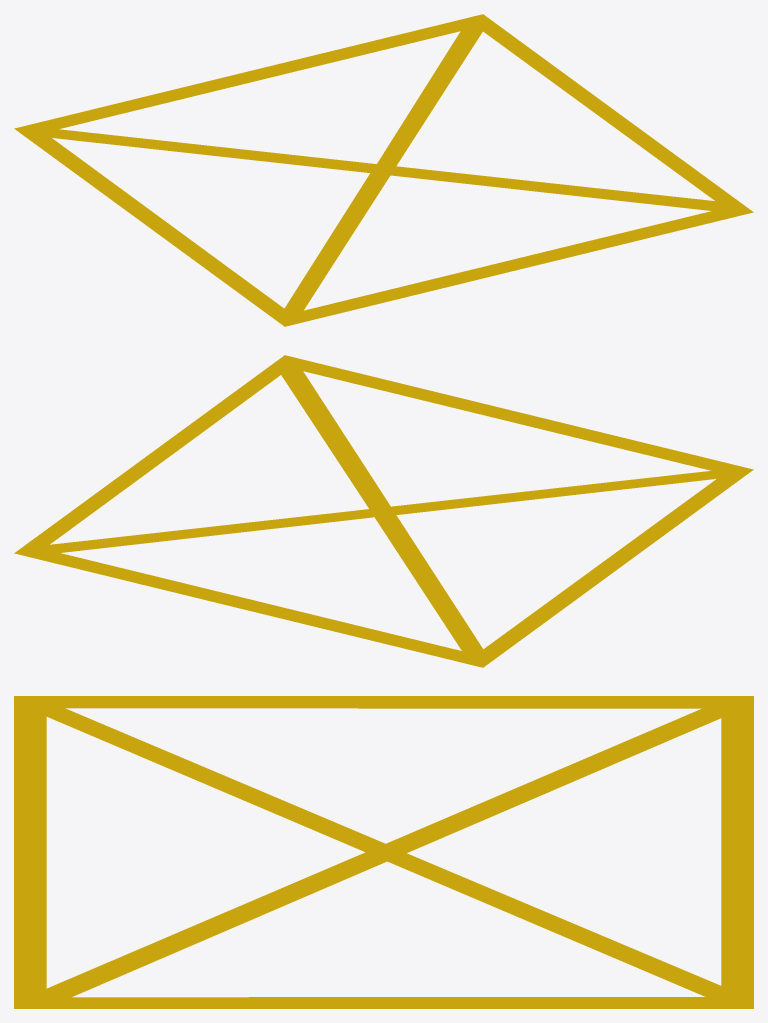
3 renders of one model, top to bottom at view 1: azimuth 30°, elevation 25°; view 2: azimuth 150°, elevation 25°; view 3: azimuth 270°, elevation 25°, orthographic. The views are drawn at different scales.
Parts seen in each view (by area): view 1: Mesh_Line; view 2: Mesh_Line; view 3: Mesh_Line.
Part boxes in pixels (box(x1,y1,x2,y2)): Mesh_Line: box(14, 14, 753, 326); Mesh_Line: box(14, 355, 753, 667); Mesh_Line: box(14, 696, 753, 1008).
Bounding box in the file's own units: 3 × 0 × 3.
